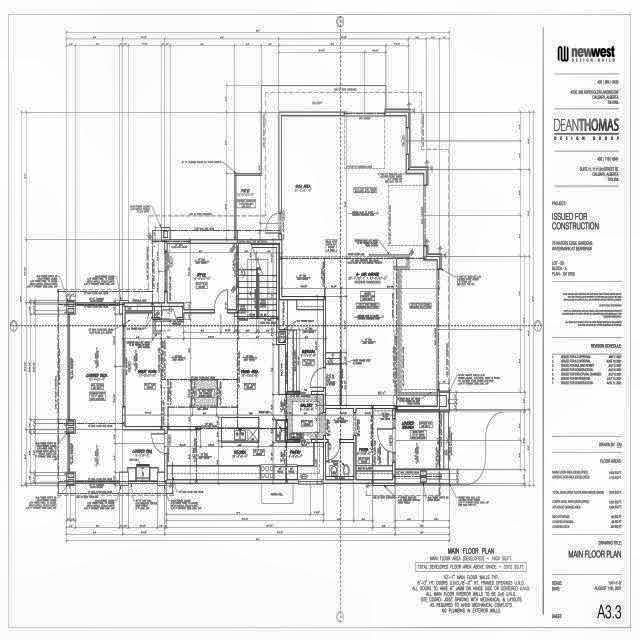room: (251, 243, 323, 391), (167, 243, 236, 310), (326, 443, 354, 476)
